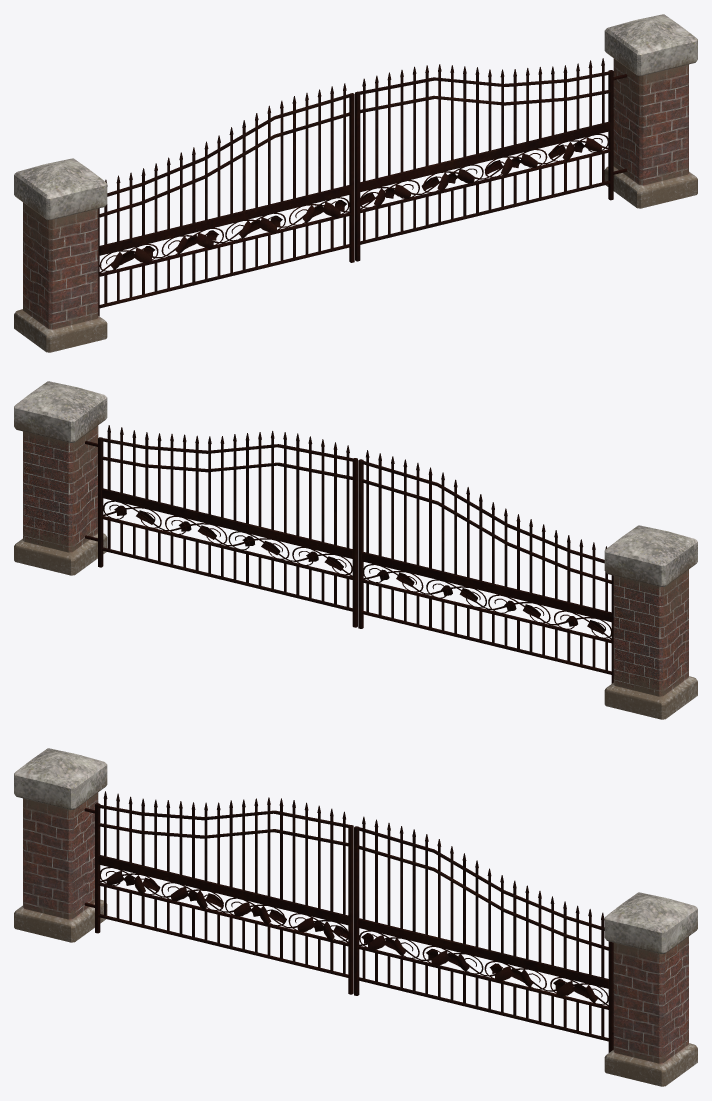
The model's file is gate.glb.
3 renders of one model, top to bottom at view 1: azimuth 30°, elevation 25°; view 2: azimuth 150°, elevation 25°; view 3: azimuth 330°, elevation 25°, orthographic.
Visible parts, largest first — view 1: polySurface635, polySurface465, polySurface466, polySurface633; view 2: polySurface635, polySurface465, polySurface466, polySurface633; view 3: polySurface635, polySurface466, polySurface465, polySurface633.
Boxes of the visible parts, <box> form: polySurface635: <box>98,58,627,315</box>; polySurface465: <box>14,158,107,352</box>; polySurface466: <box>604,14,697,208</box>; polySurface633: <box>111,138,602,270</box>; polySurface635: <box>85,425,613,683</box>; polySurface465: <box>604,525,697,719</box>; polySurface466: <box>14,381,107,575</box>; polySurface633: <box>114,505,604,634</box>; polySurface635: <box>84,791,613,1052</box>; polySurface466: <box>604,892,697,1086</box>; polySurface465: <box>14,748,107,942</box>; polySurface633: <box>106,871,597,1003</box>.
Bounding box in the file's own units: 2.59 × 0.688 × 0.2426.
Materials: 4 (4 with a texture image).
